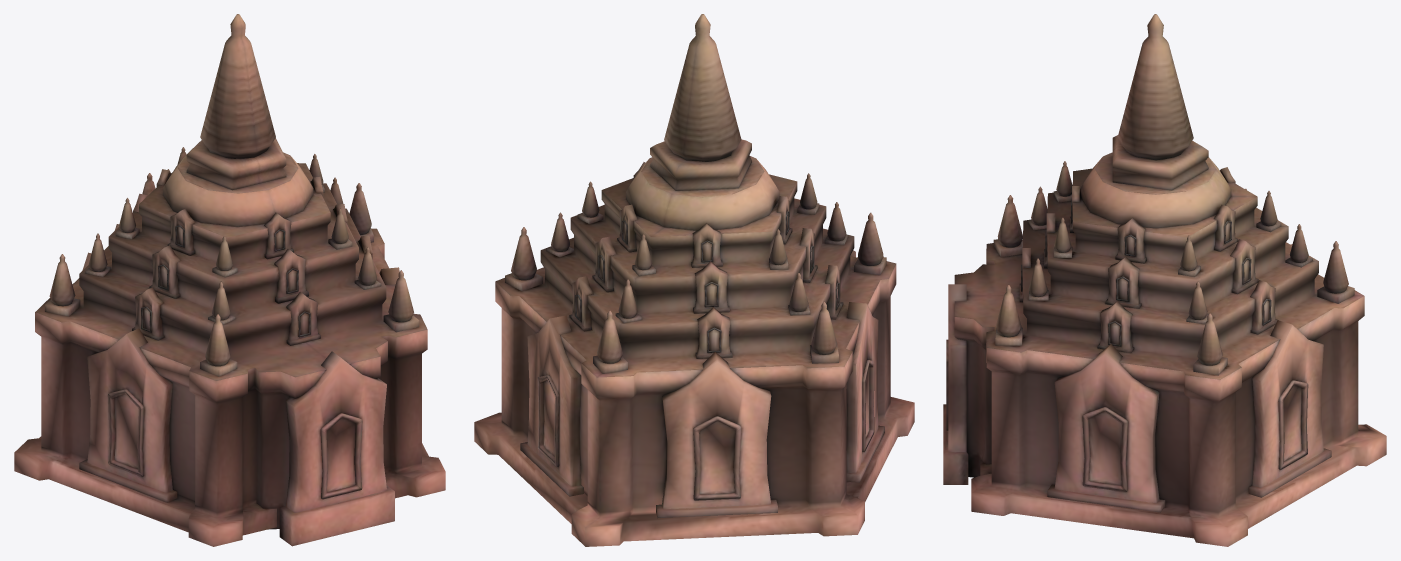
Rendered from Temple.glb.
3 renders of one model, left to right at view 1: azimuth 30°, elevation 25°; view 2: azimuth 150°, elevation 25°; view 3: azimuth 270°, elevation 25°, orthographic. The views are drawn at different scales.
Visible parts, largest first — view 1: low; view 2: low; view 3: low.
Boxes of the visible parts, box(x1,y1,x2,y2) form: low: box(14, 14, 445, 546); low: box(474, 14, 914, 546); low: box(943, 14, 1386, 546).
Bounding box in the file's own units: 5.21 × 5.86 × 5.29.
Materials: 1 (1 with a texture image).
